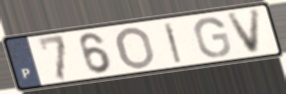6: (78, 31, 114, 75)
7: (36, 33, 68, 83)
G: (192, 16, 233, 59)
I: (162, 20, 184, 65)
O: (115, 26, 157, 71)
V: (224, 7, 263, 57)
